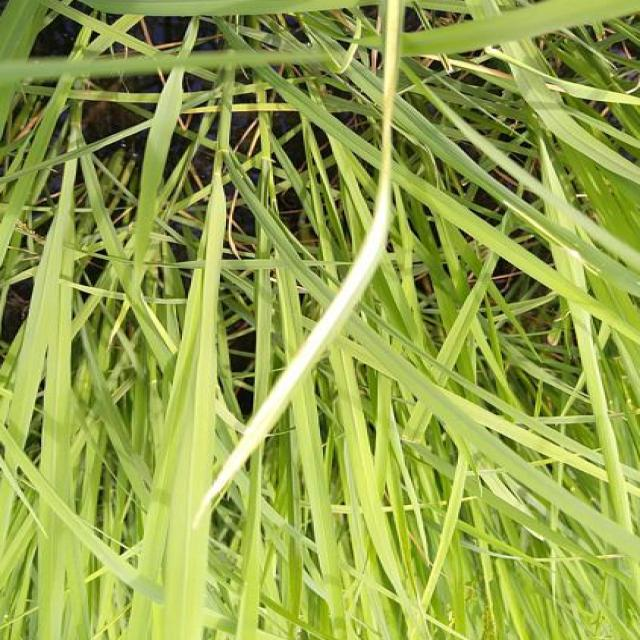Leaf Blight: (193, 0, 400, 527)
